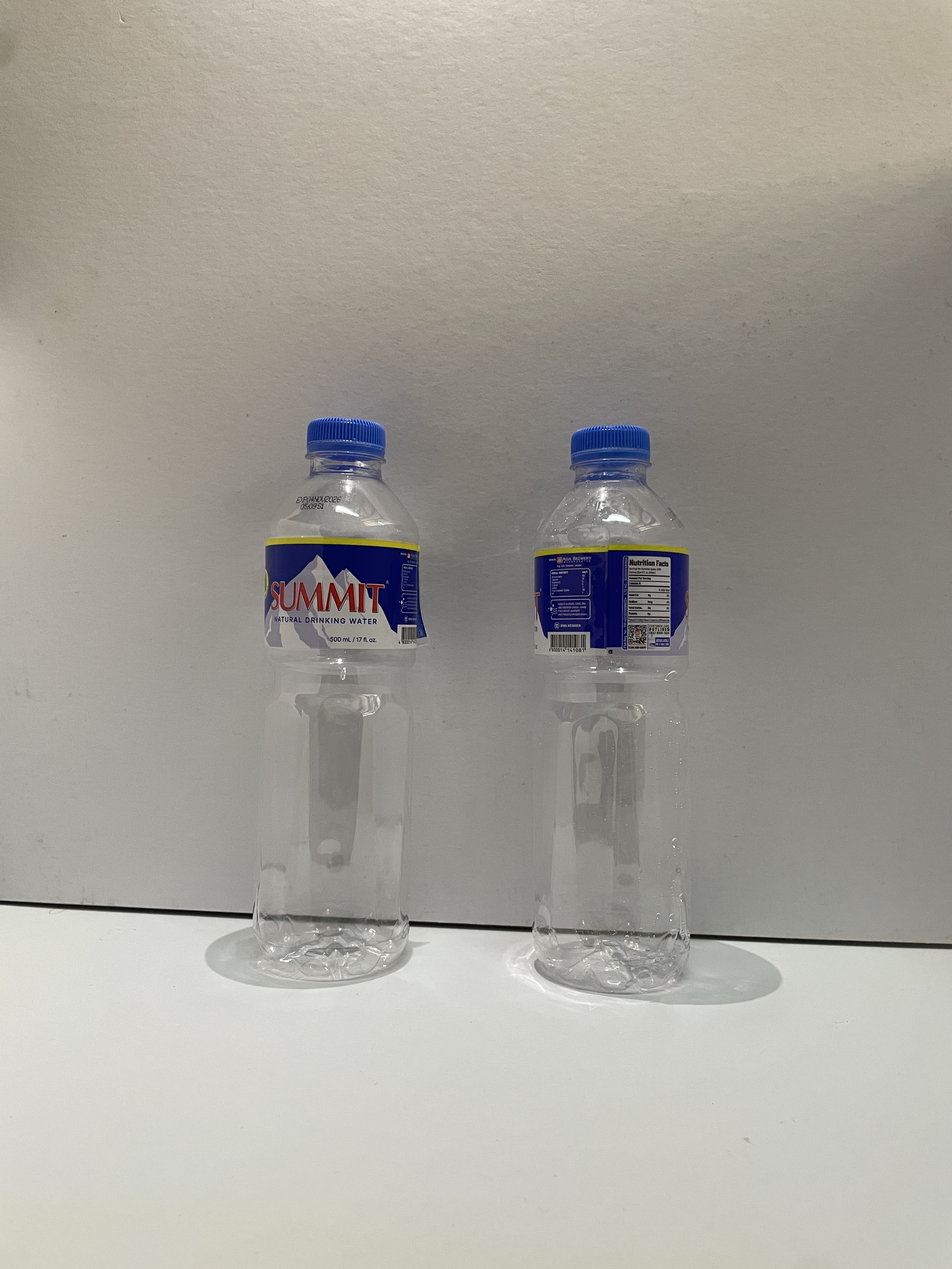Summit 500mL: (255, 418, 425, 979), (533, 425, 689, 993)
